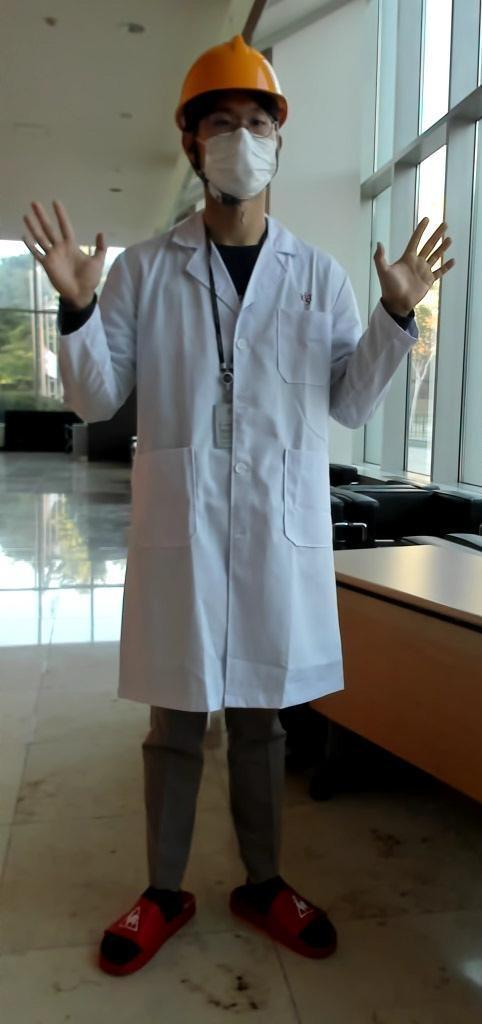lab_coat: (102, 238, 352, 701)
